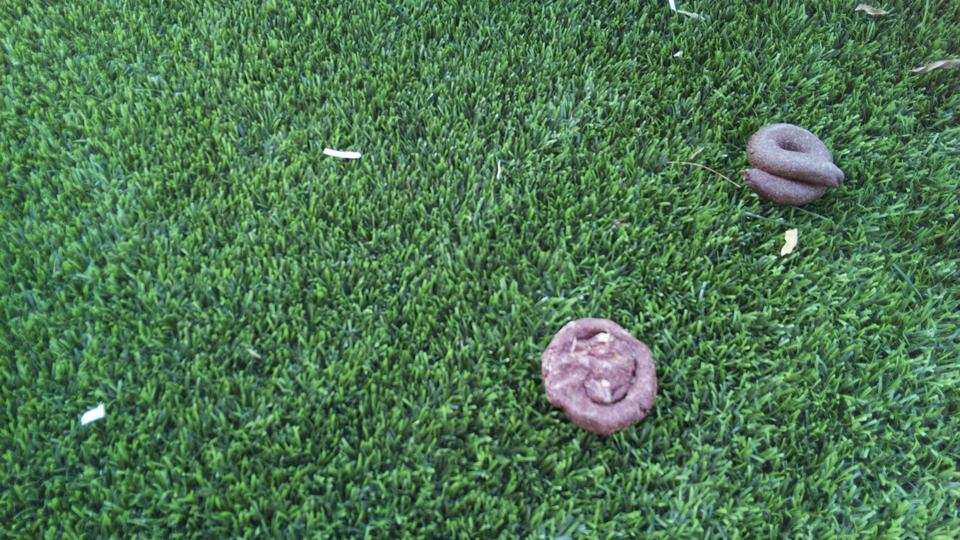poop: (536, 316, 661, 434), (742, 121, 847, 210)
